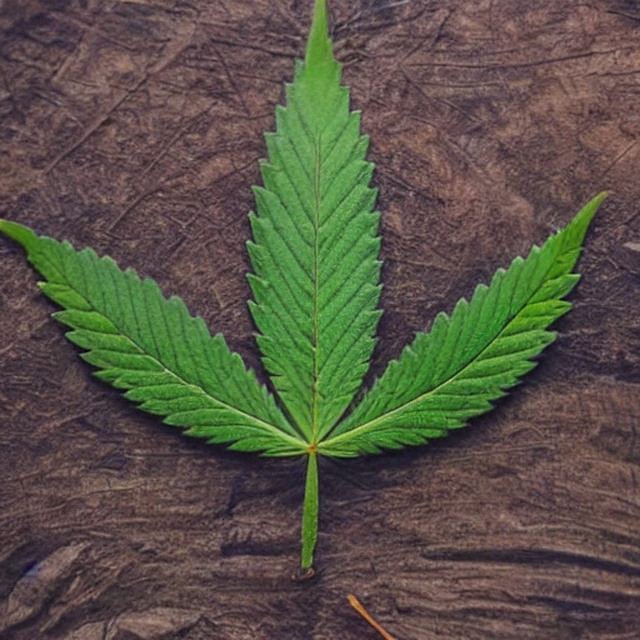Marijuana Leaf: (0, 0, 612, 576)
